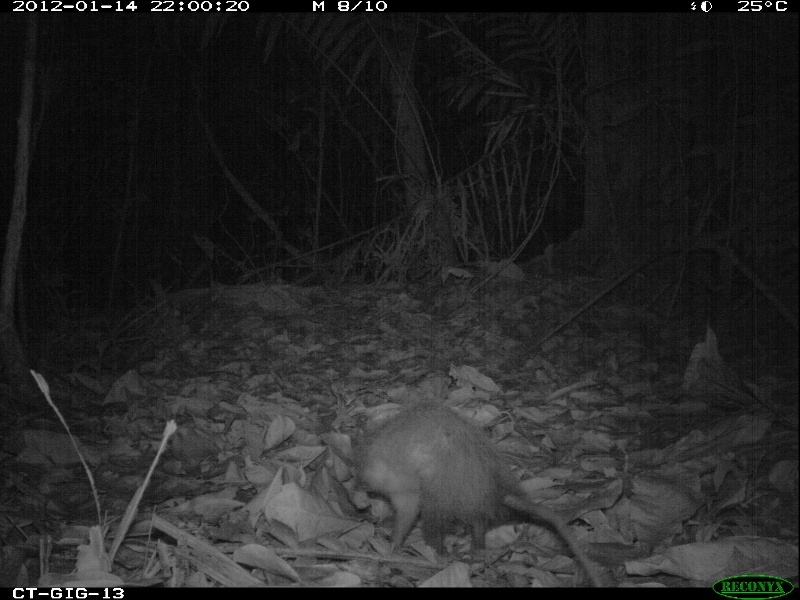opossum: (328, 407, 608, 578)
